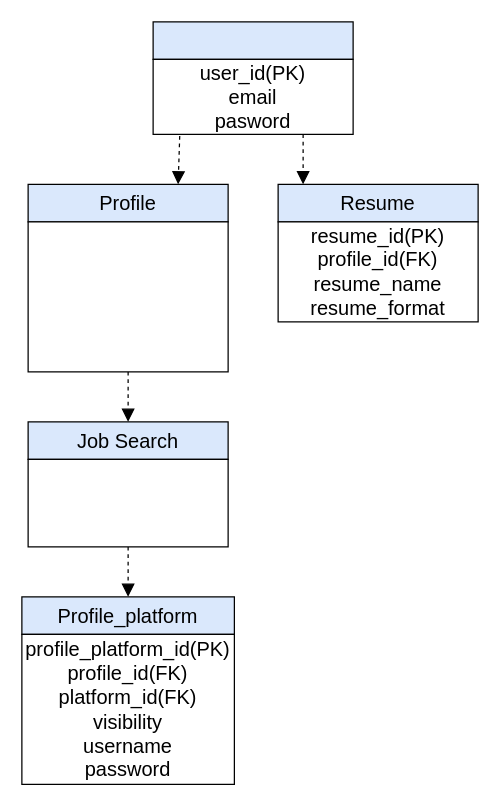
Some shapes in this 500 by 806 pixel diagram are drawn without their labels. The box of each missing label's shape, as (x1, y1, x2, y2) in pixels:
platform_id(PK) name url: (27, 458, 228, 547)
profile_id(PK) user_id(FK) headline education projects experience: (27, 221, 228, 372)
User: (152, 21, 353, 59)
